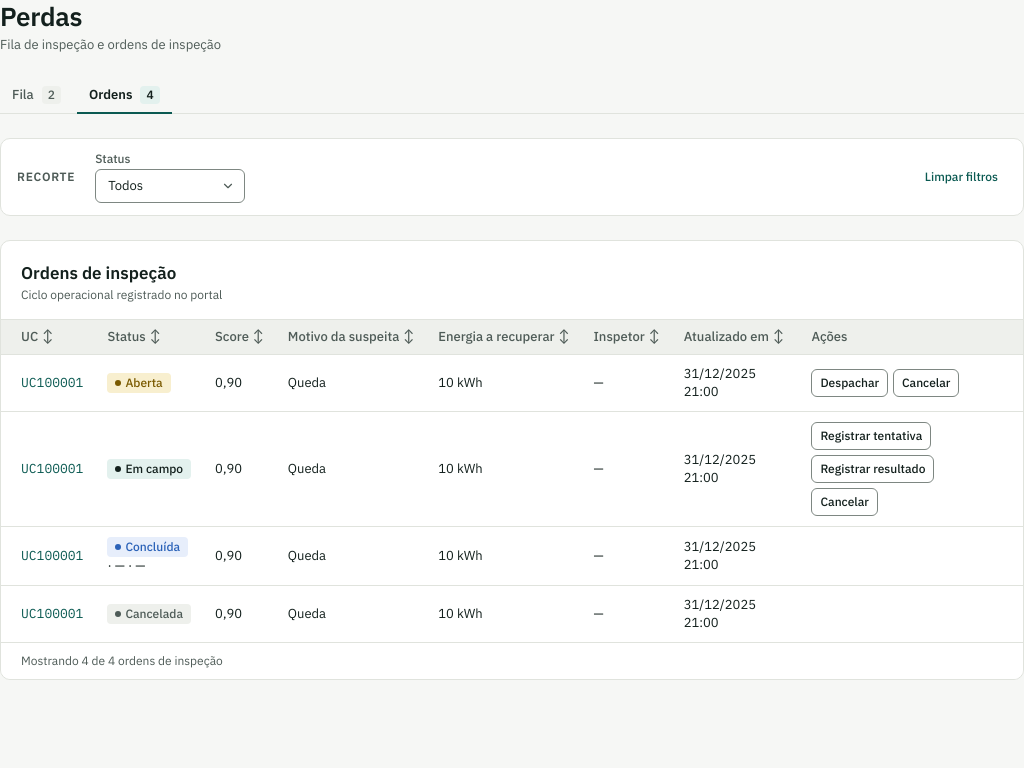
Test: Página Perdas › exibe ações por status, despacha e devolve foco
The image size is (1024, 768).
Expected: the button "Registrar tentativa" is enabled, [811,422,931,450]
Click the button "Despachar": (850, 383) [811,369,888,397]
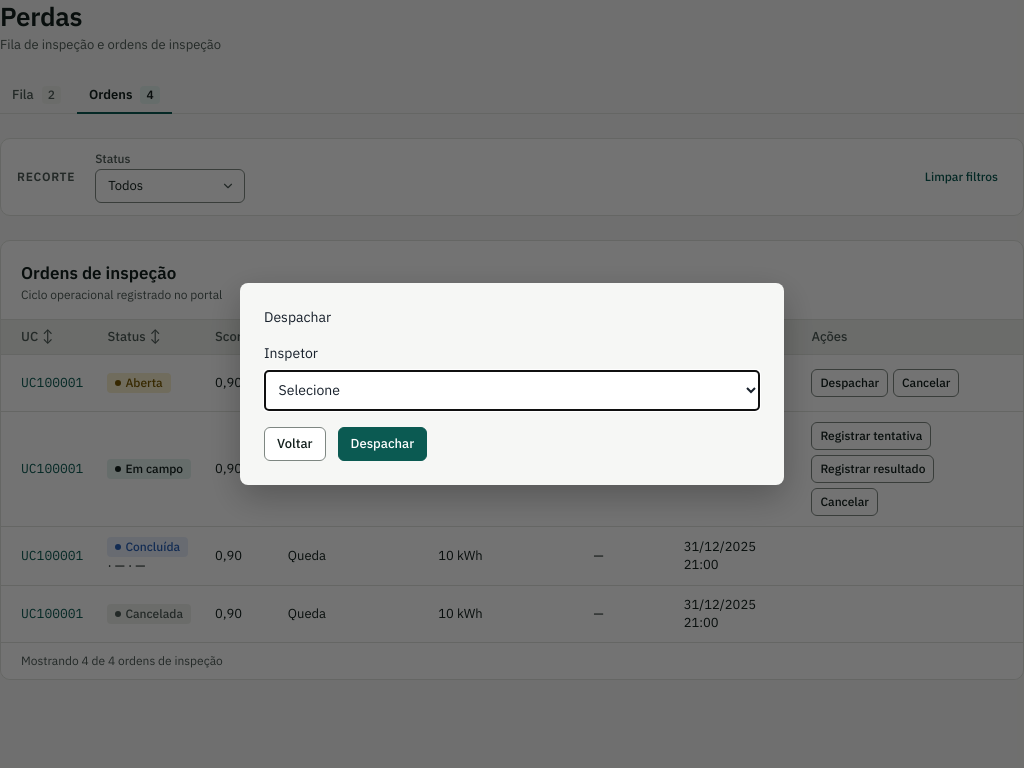
Select "INSP-001" in the dropdown labelled "Inspetor": (512, 390) [264,370,760,411]
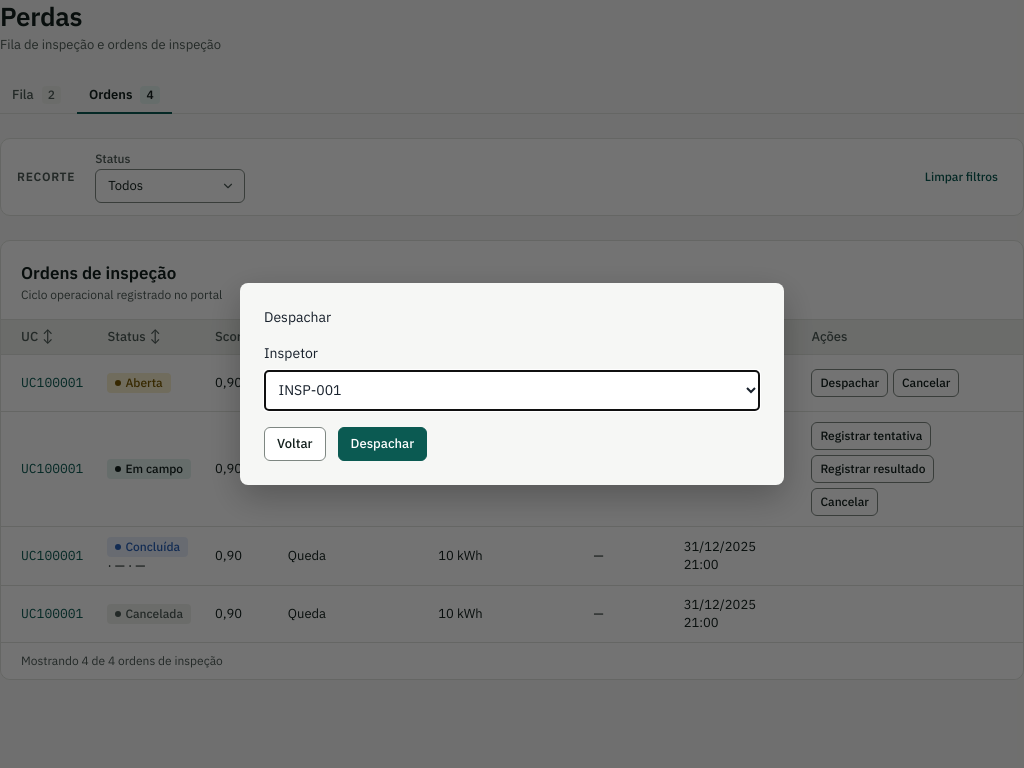
Click the button "Despachar": (382, 444) [338,427,427,461]
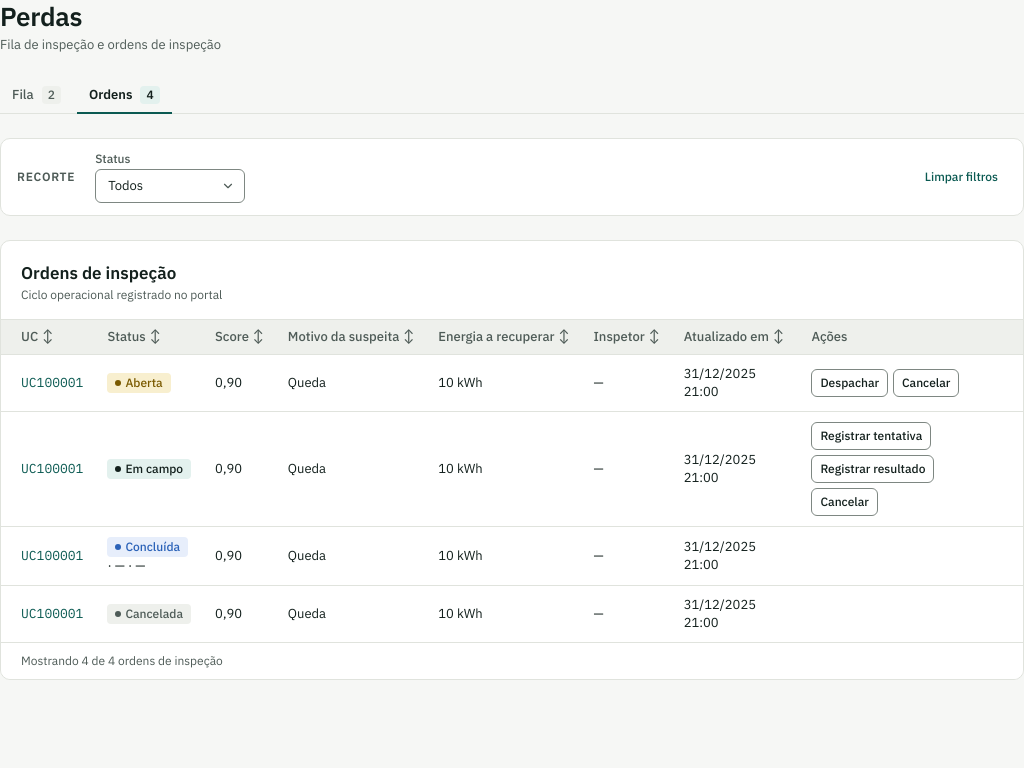
Now the dialog is gone
